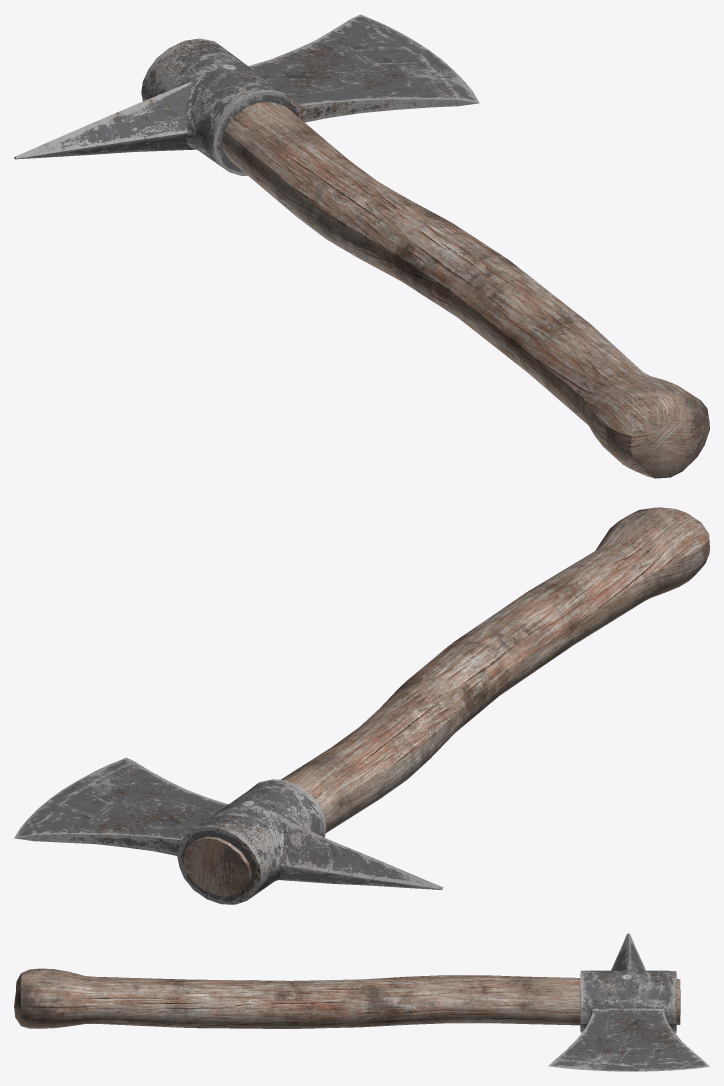
Rendered from axe.fbx.
The picture shows the model from 3 angles, top to bottom: view 1: azimuth 30°, elevation 25°; view 2: azimuth 150°, elevation 25°; view 3: azimuth 270°, elevation 25°; orthographic projection. The views are drawn at different scales.
Visible parts, largest first — view 1: axe; view 2: axe; view 3: axe.
Part boxes in pixels (bbox=[...]): axe: bbox=[14, 14, 709, 478]; axe: bbox=[14, 507, 709, 904]; axe: bbox=[14, 933, 709, 1071].
Size of the model in its own units: 26.03 by 4.9 by 55.65.
1 material, 1 textured.
